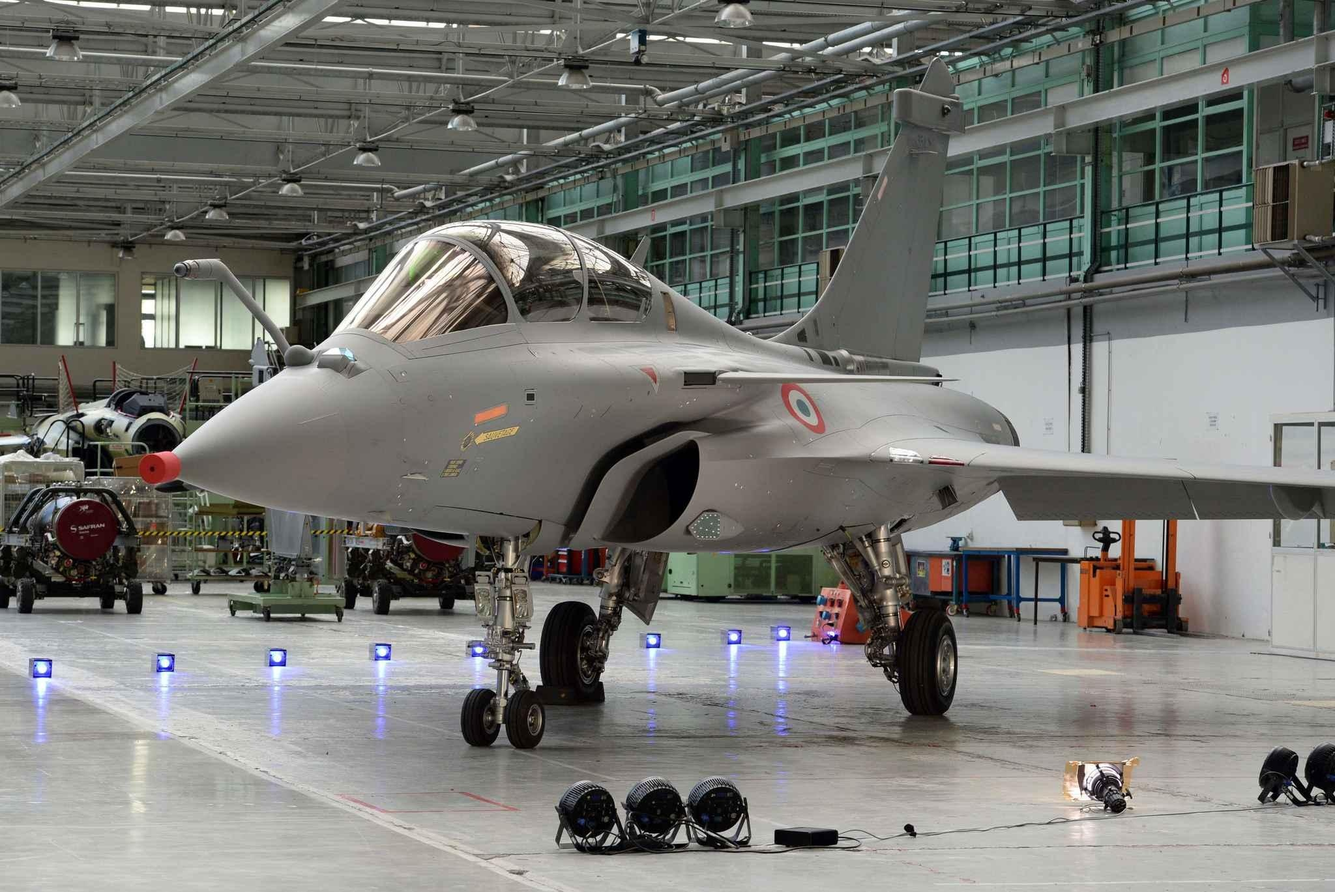aircraft: (128, 50, 1335, 715)
